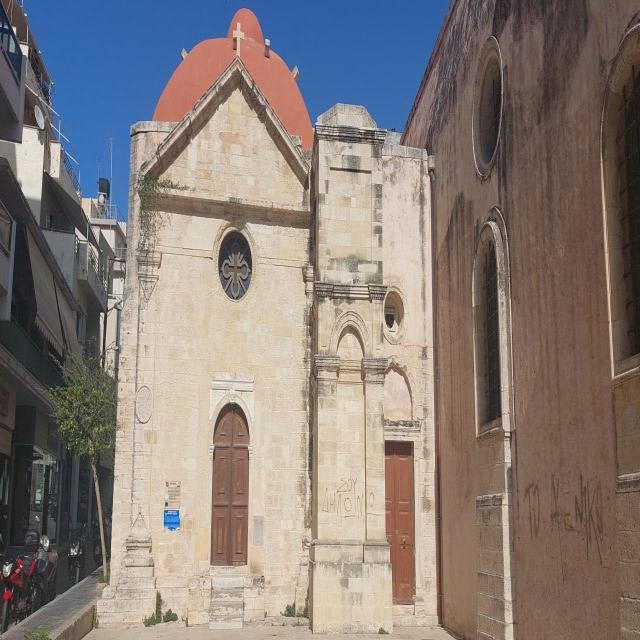Agia Aikaterini: (120, 10, 436, 640)
